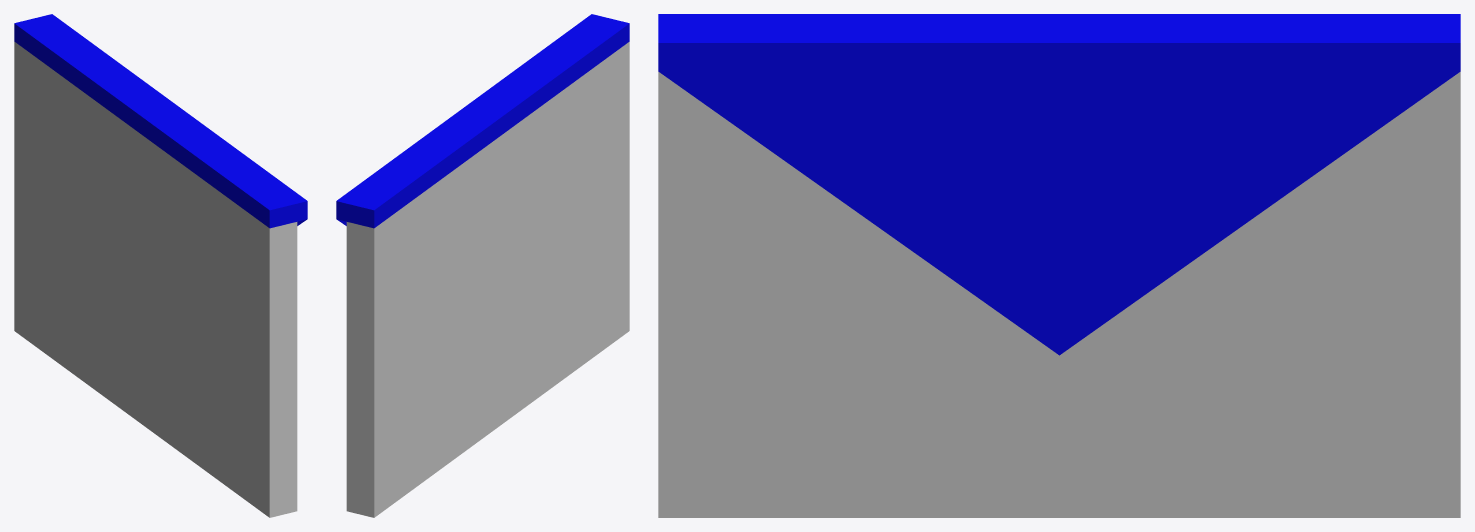
File: Email.fbx
The picture shows the model from 3 angles, left to right: view 1: azimuth 30°, elevation 25°; view 2: azimuth 150°, elevation 25°; view 3: azimuth 270°, elevation 25°; orthographic projection. The views are drawn at different scales.
Parts seen in each view (by area): view 1: Cube; view 2: Cube; view 3: Cube.
Boxes of the visible parts, x1,y1,x2,y2 form: Cube: [14, 14, 307, 517]; Cube: [336, 14, 629, 517]; Cube: [658, 14, 1460, 517].
Size of the model in its own units: 0.1719 by 1.33 by 2.
